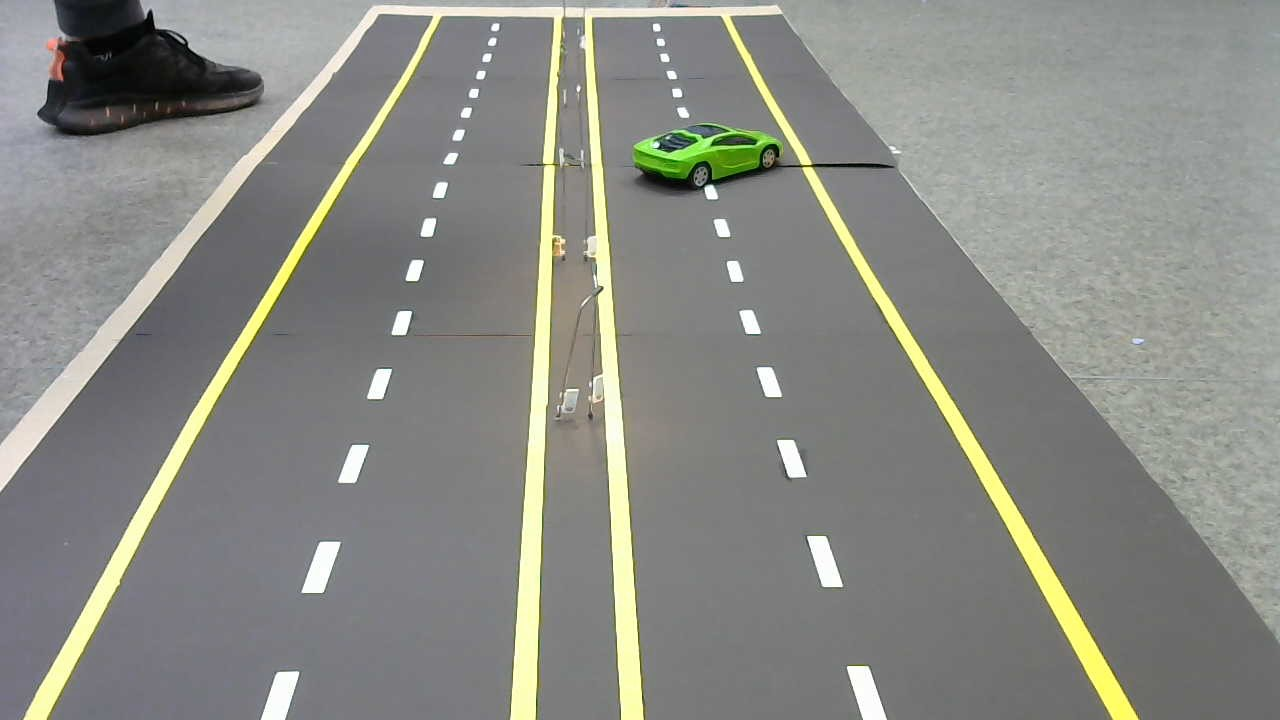overturn_car: (624, 119, 787, 193)
